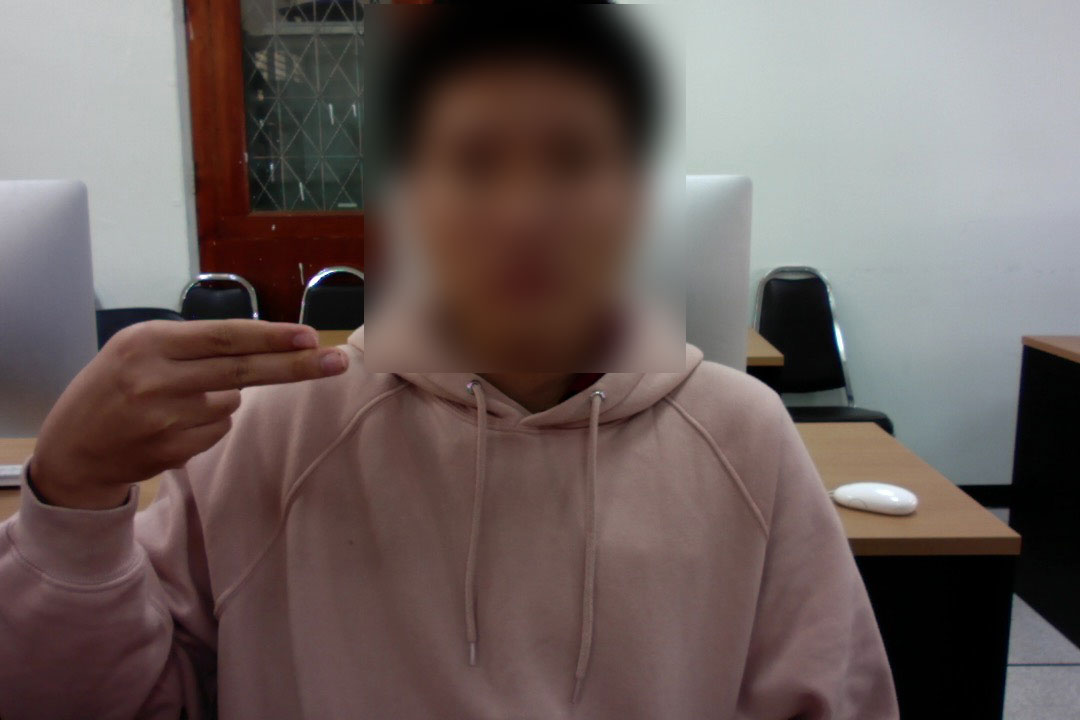hor: (16, 315, 358, 486)
